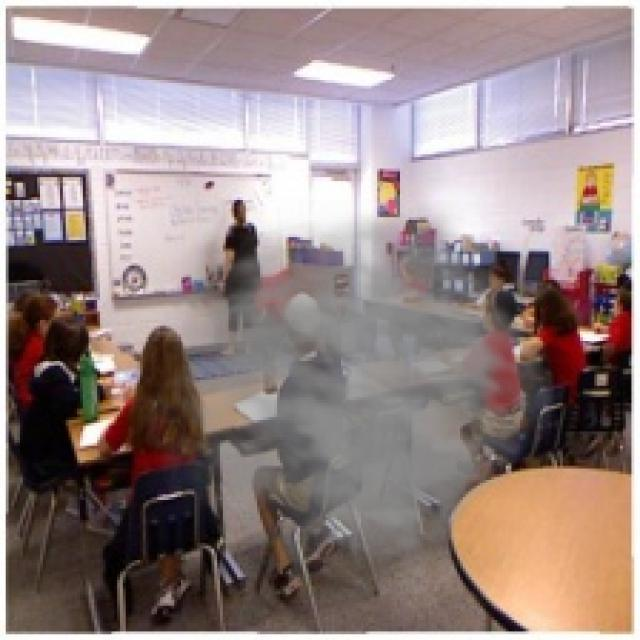Smoke: (137, 200, 557, 594)
